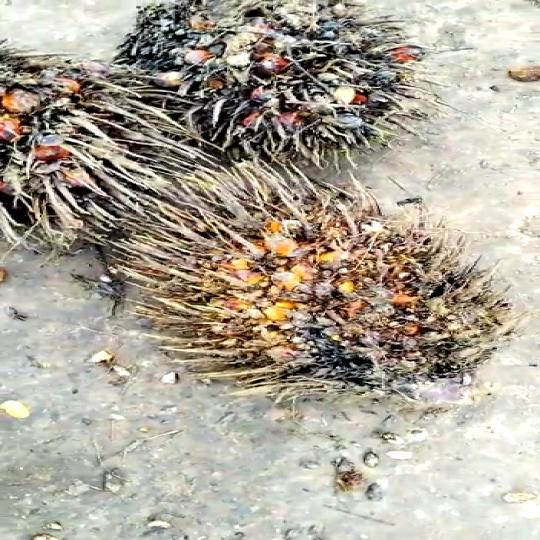terlalu masak: (99, 164, 524, 396), (106, 0, 426, 165)
